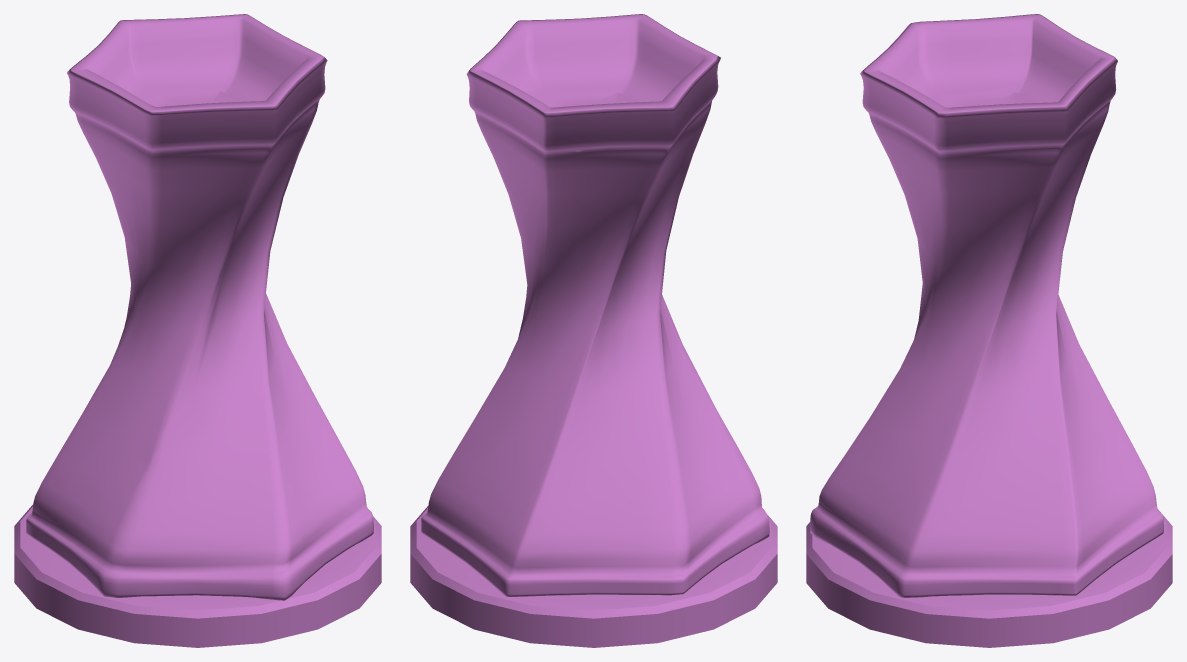
File: rook.fbx
The picture shows the model from 3 angles, left to right: view 1: azimuth 30°, elevation 25°; view 2: azimuth 150°, elevation 25°; view 3: azimuth 270°, elevation 25°; orthographic projection.
Parts seen in each view (by area): view 1: Cylinder026; view 2: Cylinder026; view 3: Cylinder026.
Part boxes in pixels (x1,y1,x2,y2): Cylinder026: [14, 14, 381, 647]; Cylinder026: [410, 14, 777, 647]; Cylinder026: [806, 14, 1172, 647].
Size of the model in its own units: 37.65 by 56.33 by 37.08.
